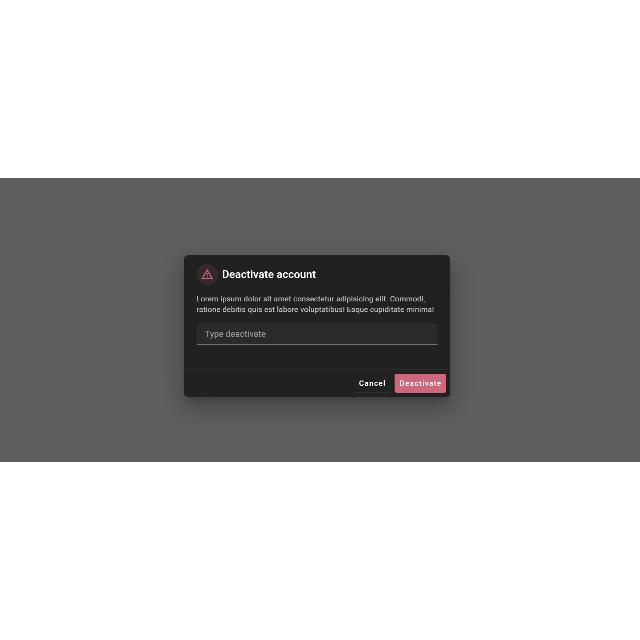QLabel: (196, 296, 434, 314), (222, 270, 318, 280), (398, 379, 442, 387), (358, 379, 387, 387)
VBtn: (394, 374, 446, 394), (354, 374, 391, 394), (184, 370, 450, 370)
VDialog: (184, 254, 450, 398)
VIcon: (196, 264, 218, 286)
VTextField: (195, 324, 438, 346)
